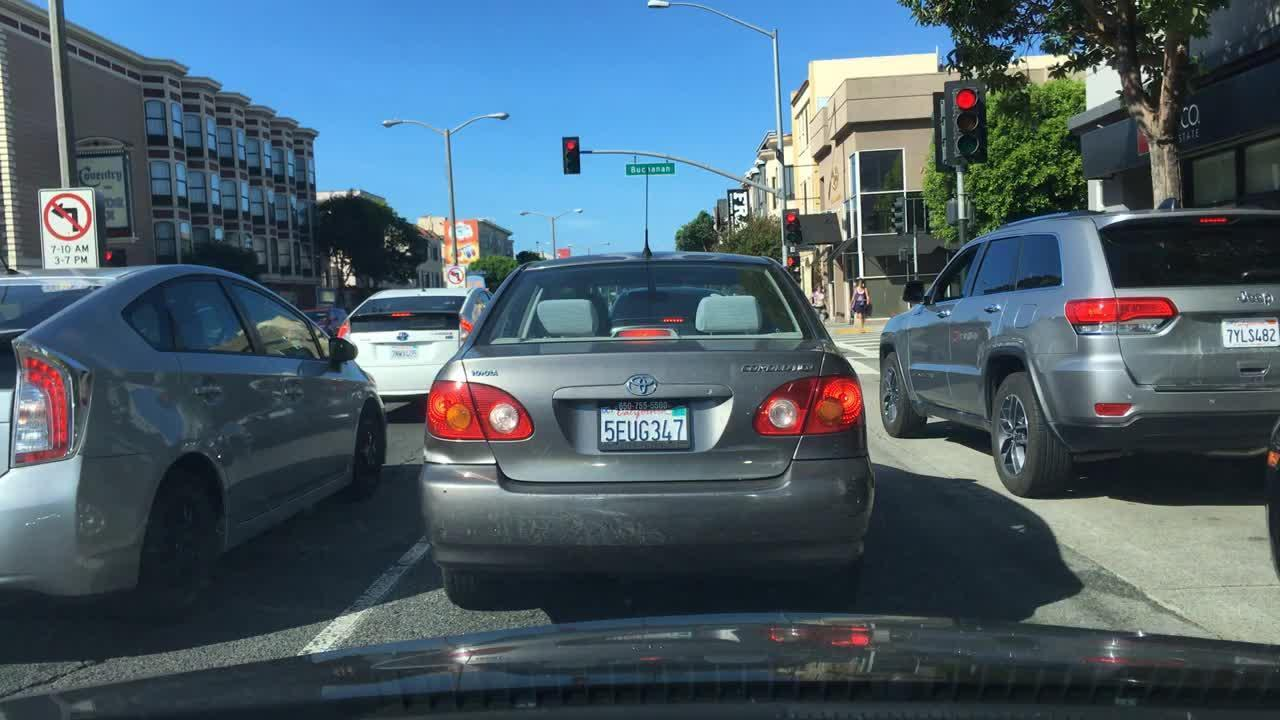Toyota: (611, 369, 674, 398)
jeep: (1230, 284, 1280, 311)
